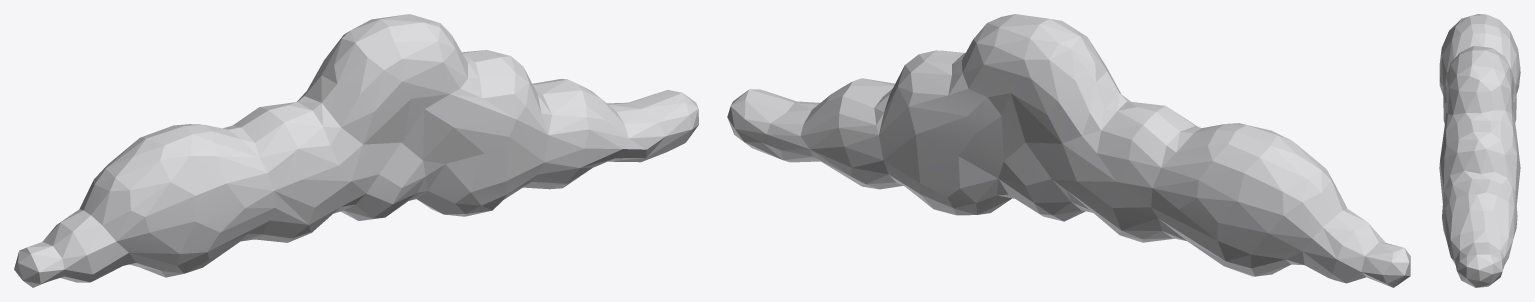
The model's file is big_cloud_7.fbx.
The picture shows the model from 3 angles, left to right: view 1: azimuth 30°, elevation 25°; view 2: azimuth 150°, elevation 25°; view 3: azimuth 270°, elevation 25°; orthographic projection. The views are drawn at different scales.
Parts seen in each view (by area): view 1: cloud_47; view 2: cloud_47; view 3: cloud_47.
Part boxes in pixels (box(x1,y1,x2,y2)): cloud_47: box(14, 14, 698, 287); cloud_47: box(727, 14, 1410, 287); cloud_47: box(1439, 14, 1520, 287).
Bounding box in the file's own units: 1583 × 468 × 230.
